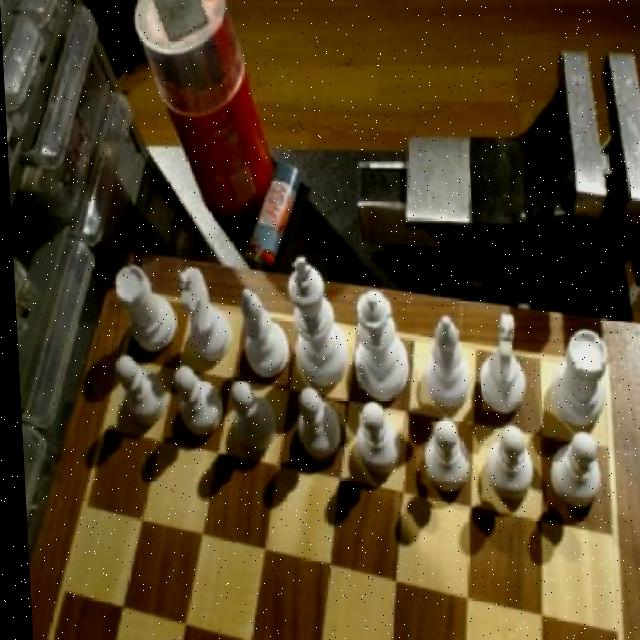black-rook: (236, 289, 291, 386), (416, 309, 468, 411)
white-bishop: (284, 255, 354, 394)
white-king: (172, 258, 234, 370), (468, 301, 524, 417)
white-knight: (540, 426, 601, 516), (106, 344, 165, 434), (480, 418, 535, 504), (414, 411, 470, 495), (170, 362, 223, 440), (290, 386, 339, 462), (348, 397, 395, 475), (226, 380, 276, 452)
white-pawn: (344, 286, 411, 409)
white-queen: (539, 325, 614, 430), (111, 257, 180, 364)
